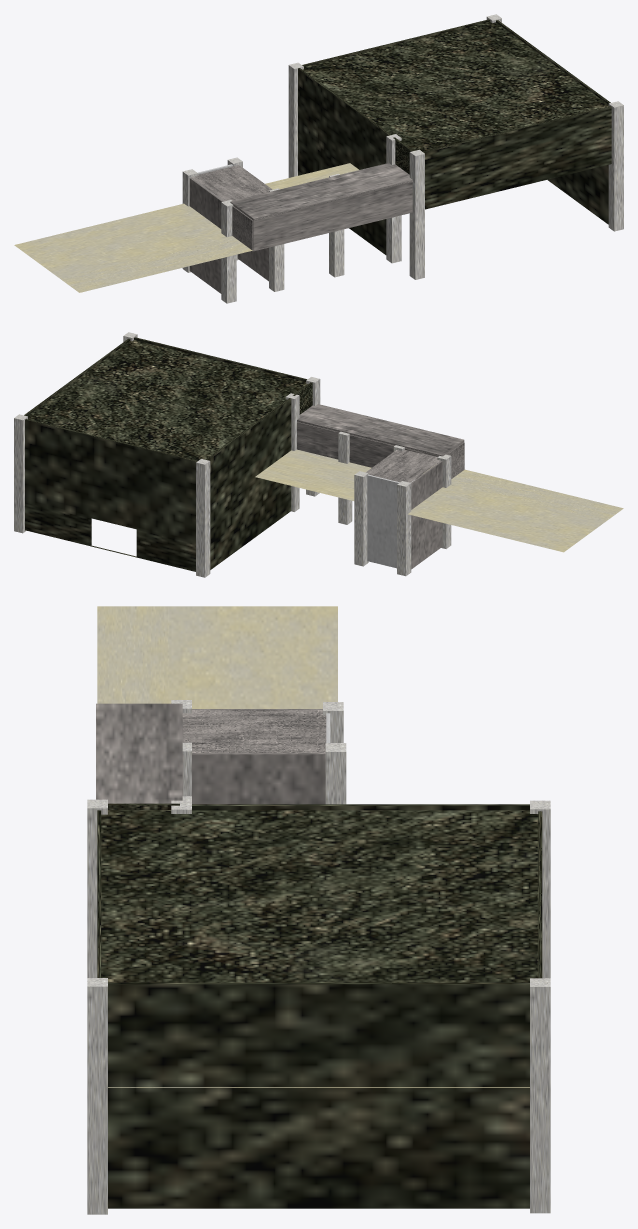
File: 第三层和月光浴室.fbx
3 views of the same model, one above another, from view 1: azimuth 30°, elevation 25°; view 2: azimuth 150°, elevation 25°; view 3: azimuth 270°, elevation 25° (orthographic). The views are drawn at different scales.
Parts seen in each view (by area): view 1: 平面.029, 平面.030, 立方体.050, 立方体.074, 立方体.076, 立方体.077, 立方体.064, 立方体.093, 立方体.060, 平面.031, 立方体.006, 立方体.068 (+8 smaller); view 2: 平面.029, 立方体.070, 平面.030, 立方体.074, 立方体.077, 立方体.079, 立方体.075, 立方体.006, 立方体.068, 平面.031, 立方体.005, 立方体.025 (+9 smaller); view 3: 立方体.064, 平面.029, 平面.030, 立方体.077, 立方体.080, 平面.031, 立方体.060, 立方体.039, 立方体.074, 立方体.093, 立方体.068, 立方体.025 (+2 smaller).
Boxes of the visible parts, bbox=[...] form: 平面.029: bbox=[302, 21, 608, 151]; 平面.030: bbox=[14, 163, 358, 292]; 立方体.050: bbox=[422, 106, 611, 209]; 立方体.074: bbox=[298, 68, 390, 254]; 立方体.076: bbox=[253, 182, 412, 251]; 立方体.077: bbox=[230, 163, 412, 220]; 立方体.064: bbox=[496, 20, 610, 224]; 立方体.093: bbox=[409, 149, 424, 279]; 立方体.060: bbox=[608, 101, 623, 231]; 平面.031: bbox=[192, 165, 272, 201]; 立方体.006: bbox=[189, 177, 223, 293]; 立方体.068: bbox=[288, 62, 303, 177]; 平面.029: bbox=[27, 340, 307, 460]; 立方体.070: bbox=[25, 419, 197, 571]; 平面.030: bbox=[255, 449, 623, 552]; 立方体.074: bbox=[205, 398, 291, 569]; 立方体.077: bbox=[297, 404, 464, 456]; 立方体.079: bbox=[367, 474, 399, 568]; 立方体.075: bbox=[297, 422, 422, 478]; 立方体.006: bbox=[411, 461, 442, 569]; 立方体.068: bbox=[196, 459, 210, 577]; 平面.031: bbox=[366, 450, 440, 482]; 立方体.005: bbox=[397, 481, 411, 576]; 立方体.025: bbox=[354, 471, 368, 566]; 立方体.064: bbox=[108, 982, 529, 1208]; 平面.029: bbox=[101, 810, 538, 982]; 平面.030: bbox=[97, 606, 529, 1087]; 立方体.077: bbox=[96, 703, 182, 803]; 立方体.080: bbox=[192, 753, 325, 804]; 平面.031: bbox=[182, 709, 326, 752]; 立方体.060: bbox=[87, 978, 107, 1214]; 立方体.039: bbox=[530, 978, 550, 1213]; 立方体.074: bbox=[192, 804, 529, 810]; 立方体.093: bbox=[87, 799, 107, 977]; 立方体.068: bbox=[530, 800, 550, 978]; 立方体.025: bbox=[325, 743, 346, 804].
Bounding box in the file's own units: 11128 × 2433 × 4485.
